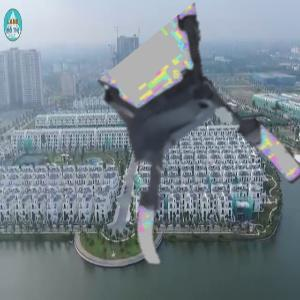drone: (74, 45, 290, 261)
